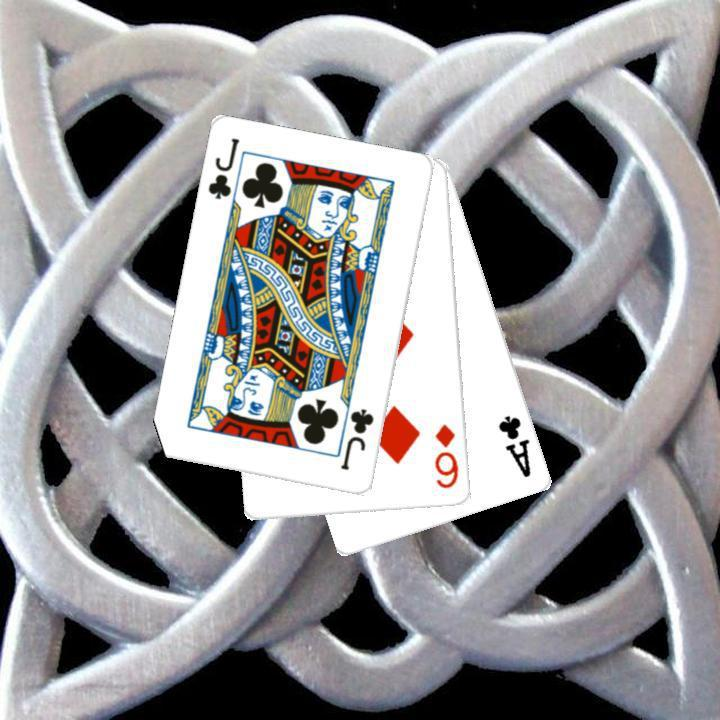6: (431, 420, 461, 491)
A: (494, 411, 533, 480)
J: (337, 405, 377, 473), (203, 134, 243, 202)
